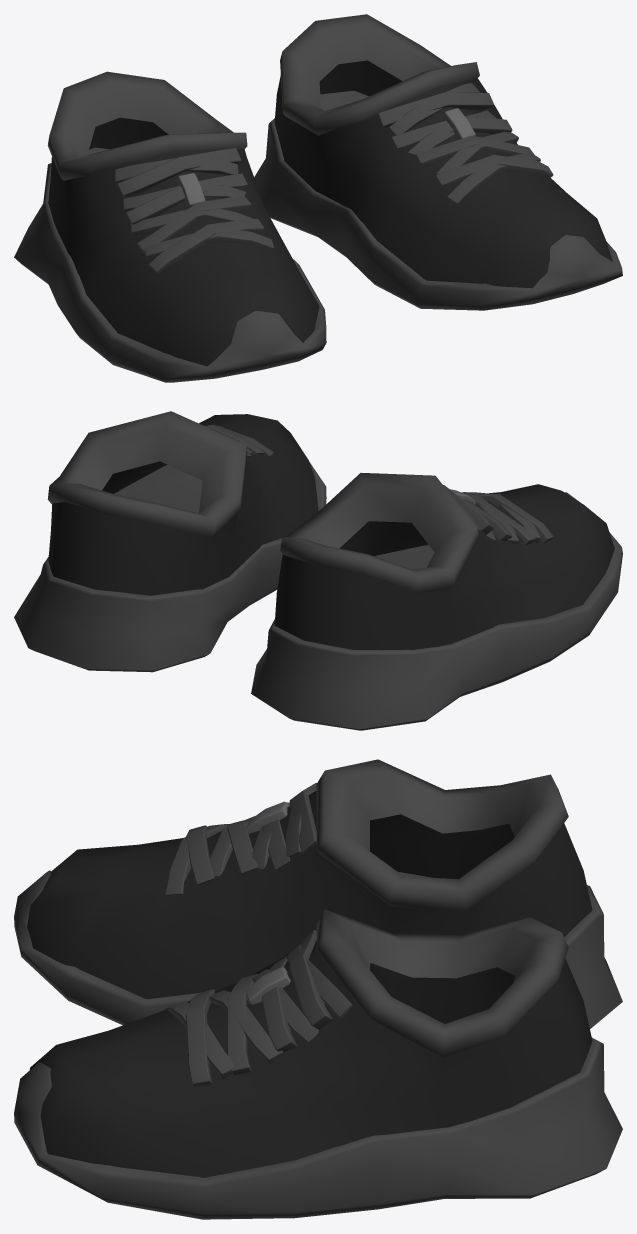
File: Shoe_Sneaker_020.glb
3 renders of one model, top to bottom at view 1: azimuth 30°, elevation 25°; view 2: azimuth 150°, elevation 25°; view 3: azimuth 270°, elevation 25°, orthographic. The views are drawn at different scales.
Visible parts, largest first — view 1: Shoe_Sneaker_020; view 2: Shoe_Sneaker_020; view 3: Shoe_Sneaker_020.
Boxes of the visible parts, left/top/right/bottom form: Shoe_Sneaker_020: left=14, top=14, right=622, bottom=382; Shoe_Sneaker_020: left=14, top=411, right=622, bottom=730; Shoe_Sneaker_020: left=14, top=759, right=622, bottom=1219.
Size of the model in its own units: 0.4447 by 0.1526 by 0.3773.
1 material, 1 textured.
